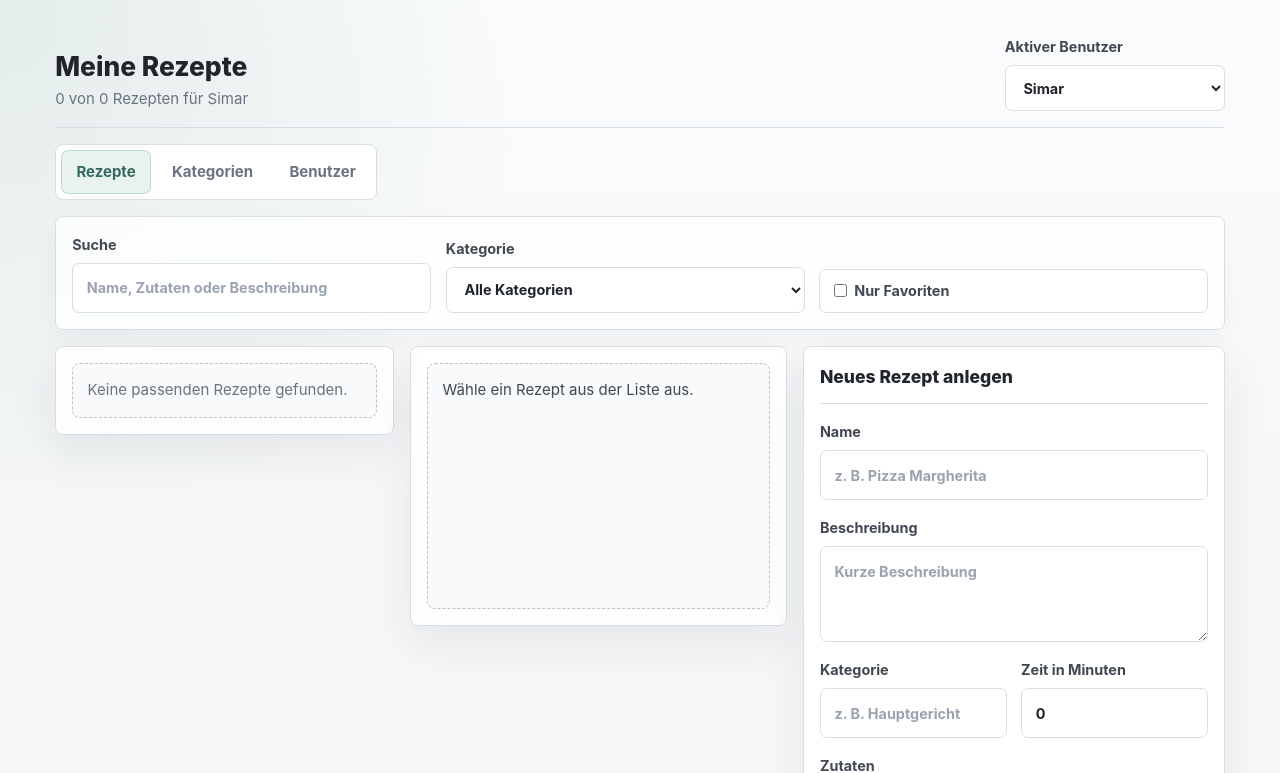
Test: RecipeList › does not submit a recipe without ingredients
Type "Pizza" into the field with placeholder "z. B. Pizza Margherita" at coordinates (1014, 475), box x1=820 y1=450 x2=1208 y2=500
(page scrolled)
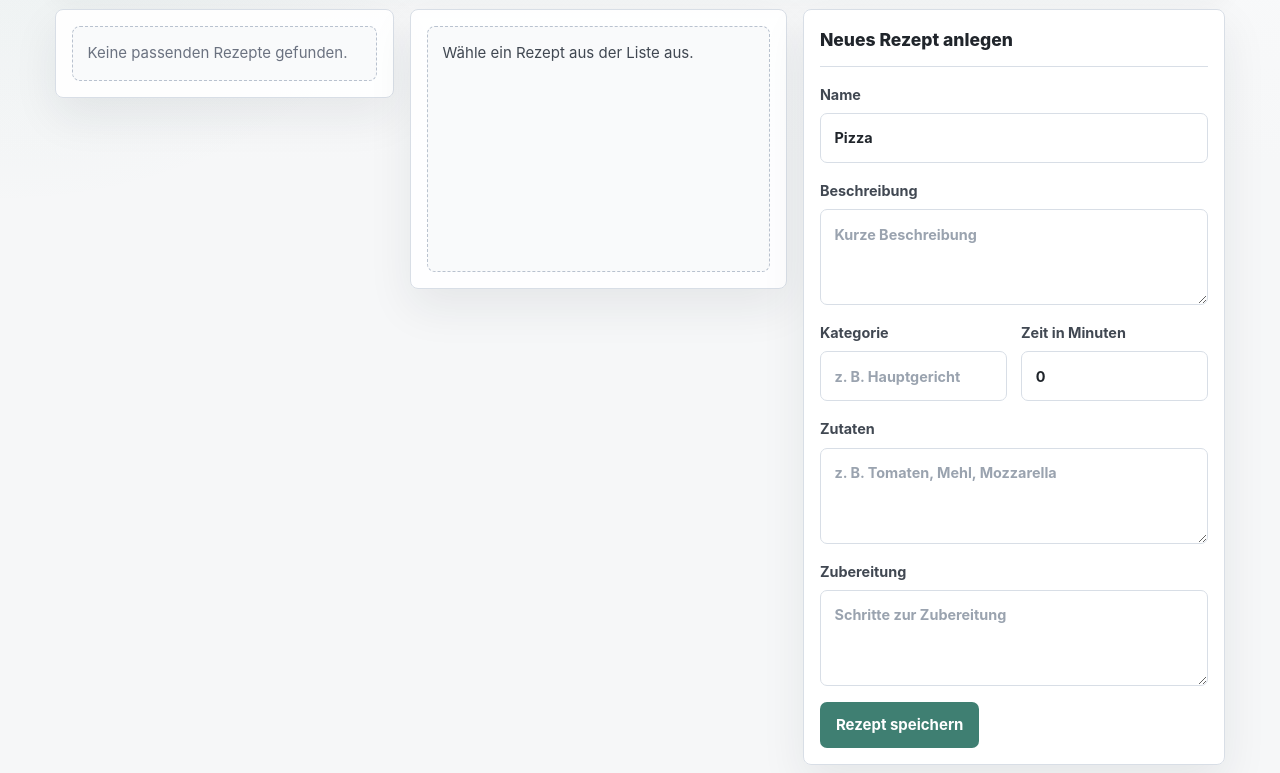
Submit the form, box x1=820 y1=83 x2=1208 y2=748
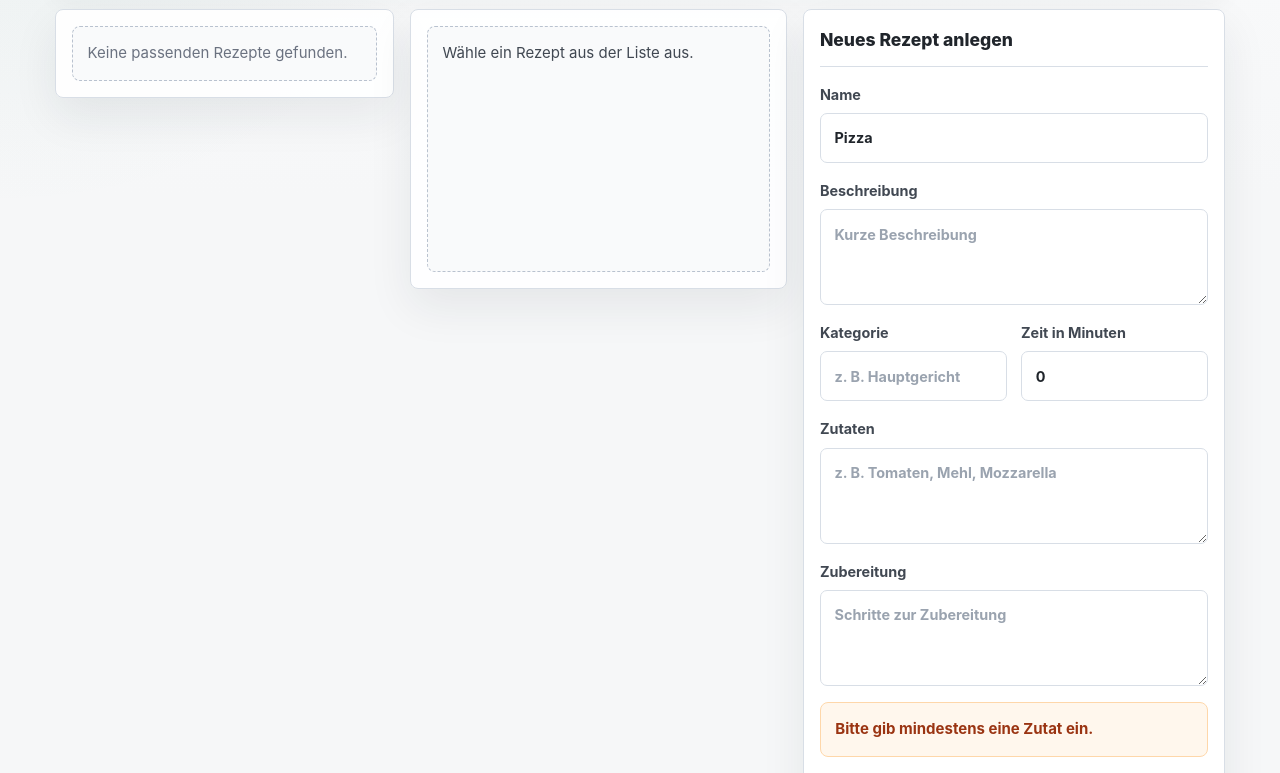
Now the text "Bitte gib mindestens eine Zutat ein." is shown, box x1=820 y1=702 x2=1208 y2=757
